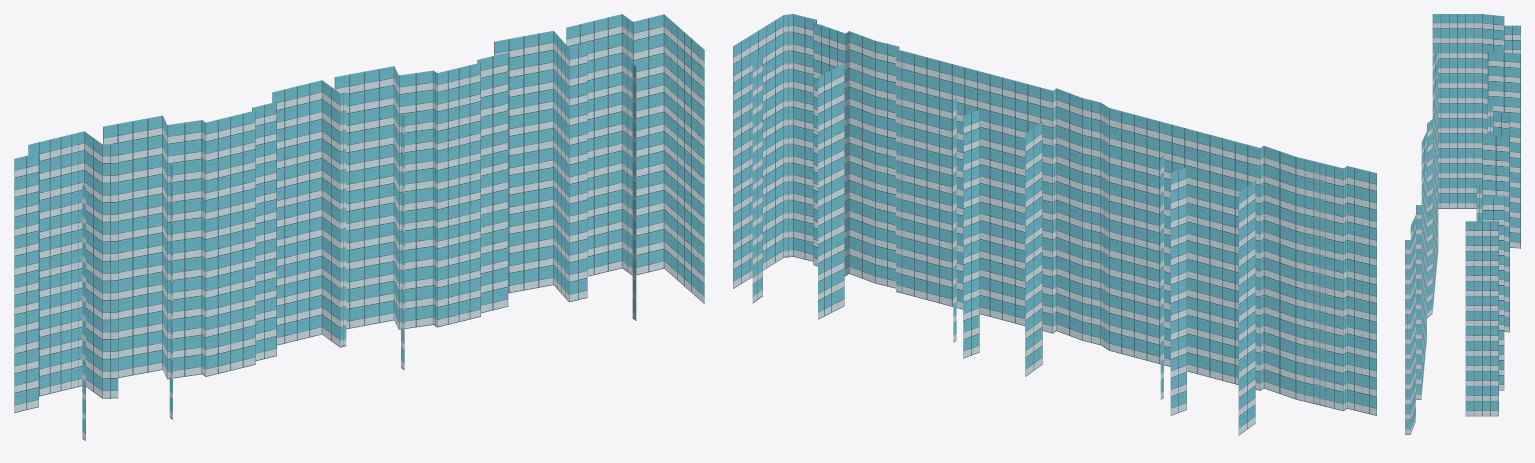
File: glass3.gltf
3 views of the same model, side by side, from view 1: azimuth 30°, elevation 25°; view 2: azimuth 150°, elevation 25°; view 3: azimuth 270°, elevation 25° (orthographic). The views are drawn at different scales.
Size of the model in its own units: 103 by 39 by 21.
2 materials, 1 textured.
